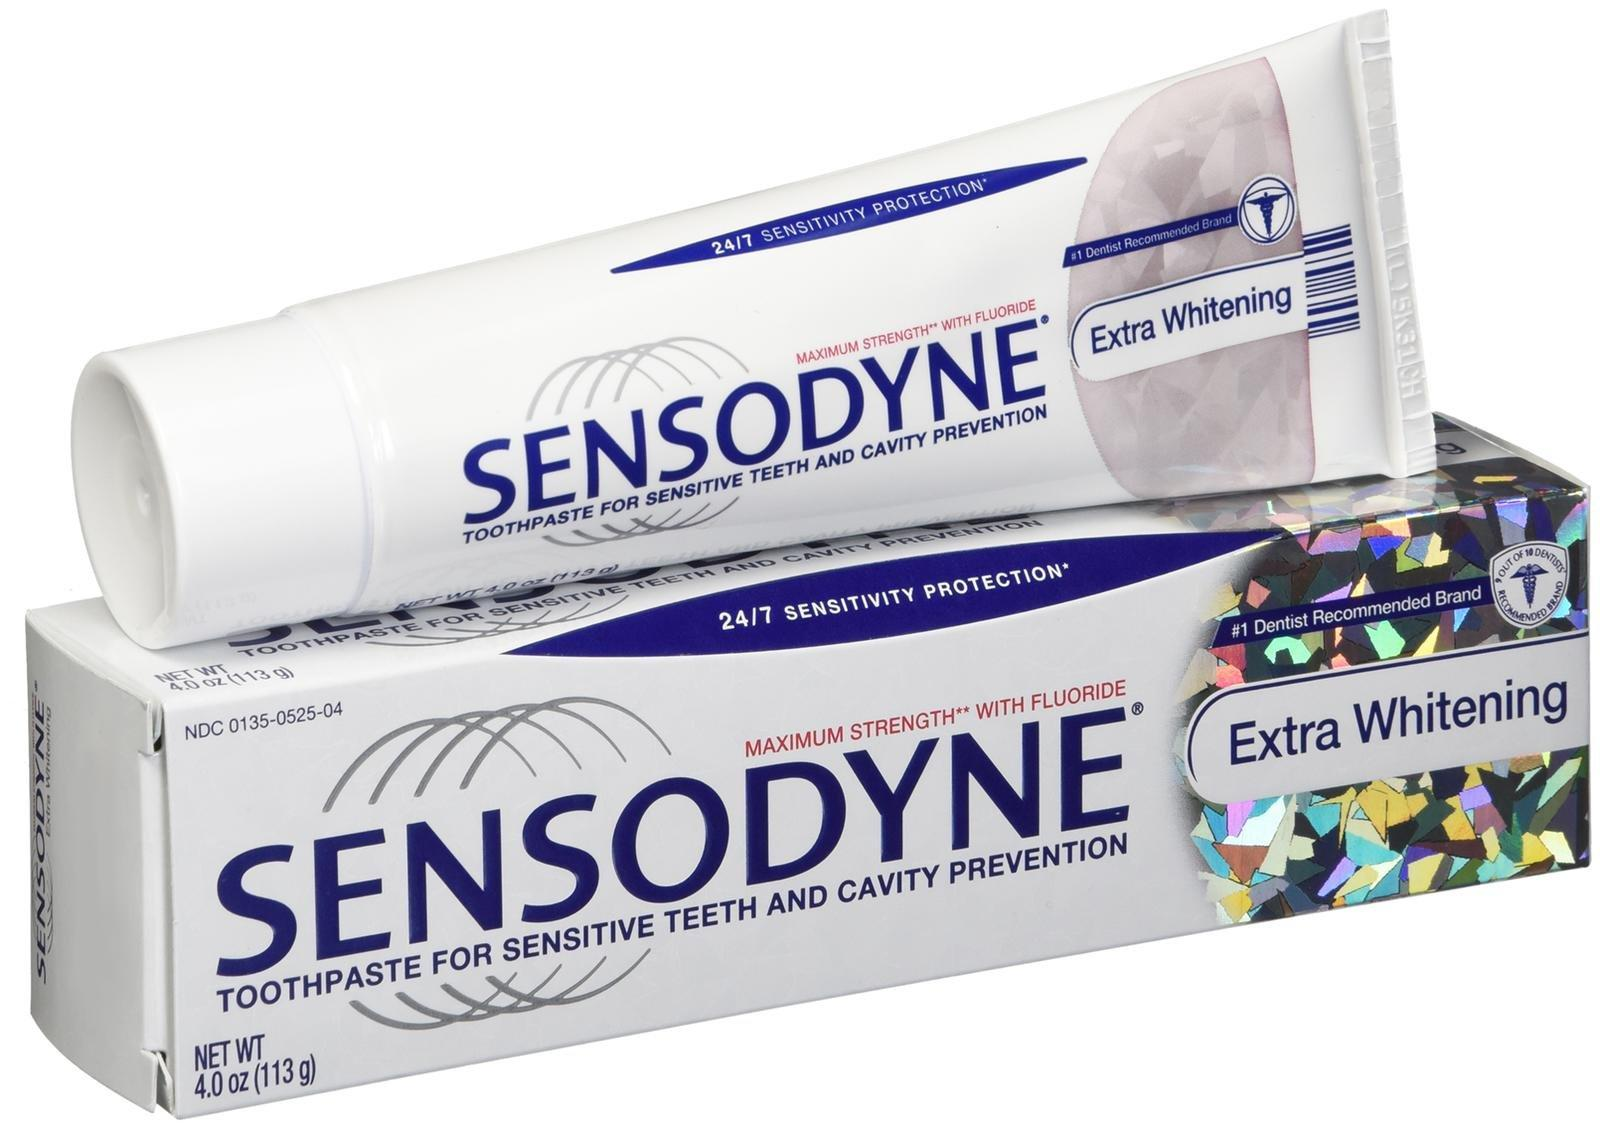toothpaste: (0, 401, 1591, 1129), (50, 6, 1456, 643)
